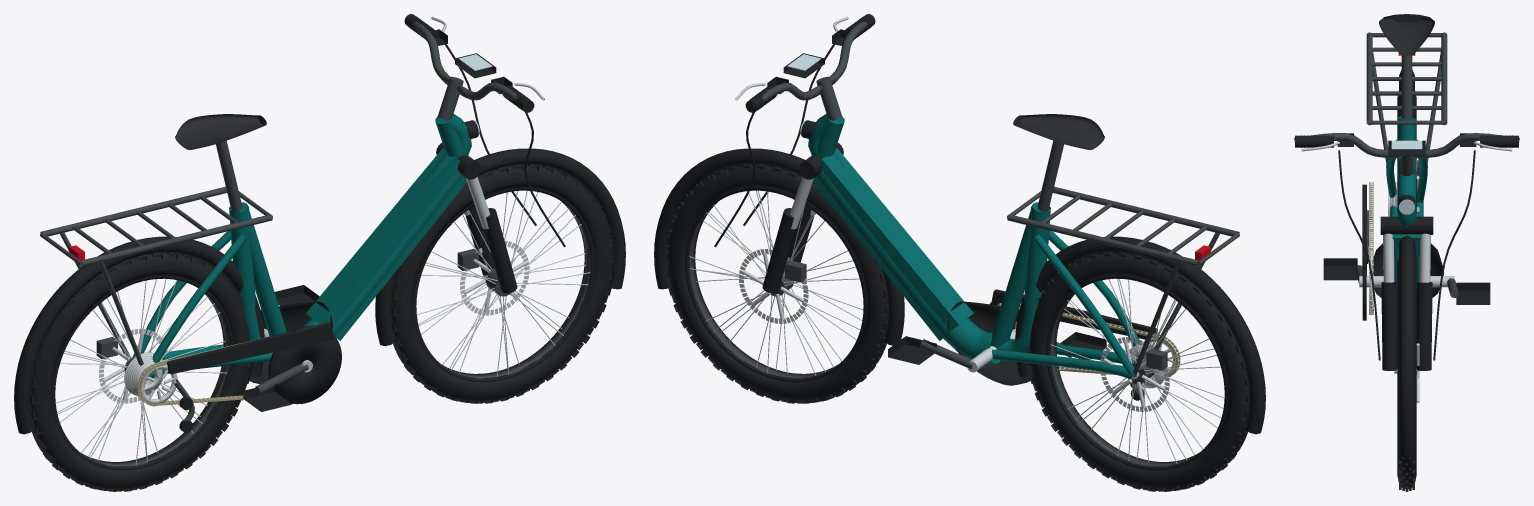
Rendered from trek-verve-plus.glb.
3 renders of one model, left to right at view 1: azimuth 30°, elevation 25°; view 2: azimuth 150°, elevation 25°; view 3: azimuth 270°, elevation 25°, orthographic. The views are drawn at different scales.
Visible parts, largest first — view 1: RearWheel | rubber, FrontWheel | rubber, Bodywork | black, BatteryMount | teal, Drive | black, Chassis | teal, Bodywork | graphite, FrontWheel | steel, RearWheel | steel, FrontWheel | black, Fork | black, RearWheel | black (+11 smaller); view 2: RearWheel | rubber, FrontWheel | rubber, Bodywork | black, BatteryMount | teal, Chassis | teal, Bodywork | graphite, FrontWheel | steel, RearWheel | steel, FrontWheel | black, RearWheel | black, Drive | black, Fork | black (+10 smaller); view 3: Bodywork | black, Bodywork | graphite, Fork | black, Drive | black, Cockpit | rubber, Chassis | teal, Bodywork | seat, Cockpit | graphite, FrontWheel | rubber, Fork | steel, Drive | steel, Cockpit | black (+6 smaller).
Boxes of the visible parts, x1,y1,x2,y2 form: RearWheel | rubber: [30, 252, 252, 491]; FrontWheel | rubber: [391, 164, 614, 403]; Bodywork | black: [14, 120, 625, 434]; BatteryMount | teal: [302, 148, 466, 340]; Drive | black: [167, 285, 341, 432]; Chassis | teal: [132, 113, 471, 377]; Bodywork | graphite: [40, 186, 272, 365]; FrontWheel | steel: [417, 190, 590, 376]; RearWheel | steel: [56, 279, 226, 464]; FrontWheel | black: [413, 187, 594, 382]; Fork | black: [436, 143, 517, 293]; RearWheel | black: [52, 275, 233, 470]; RearWheel | rubber: [1026, 252, 1249, 491]; FrontWheel | rubber: [665, 164, 888, 403]; Bodywork | black: [654, 120, 1265, 434]; BatteryMount | teal: [813, 148, 1000, 363]; Chassis | teal: [808, 113, 1139, 379]; Bodywork | graphite: [1007, 186, 1239, 376]; FrontWheel | steel: [689, 190, 863, 375]; RearWheel | steel: [1050, 279, 1224, 463]; FrontWheel | black: [685, 187, 866, 382]; RearWheel | black: [1046, 275, 1227, 470]; Drive | black: [888, 289, 1157, 400]; Fork | black: [762, 143, 843, 293]; Bodywork | black: [1398, 70, 1415, 456]; Bodywork | graphite: [1366, 32, 1447, 162]; Fork | black: [1380, 216, 1433, 370]; Drive | black: [1323, 184, 1490, 320]; Cockpit | rubber: [1295, 135, 1518, 360]; Chassis | teal: [1386, 116, 1427, 226]; Bodywork | seat: [1379, 14, 1434, 55]; Cockpit | graphite: [1294, 133, 1519, 176]; FrontWheel | rubber: [1397, 257, 1416, 491]; Fork | steel: [1383, 233, 1430, 282]; Drive | steel: [1359, 181, 1454, 314]; Cockpit | black: [1301, 133, 1512, 155].
Bounding box in the file's own units: 1.96 × 1.07 × 0.6634.
